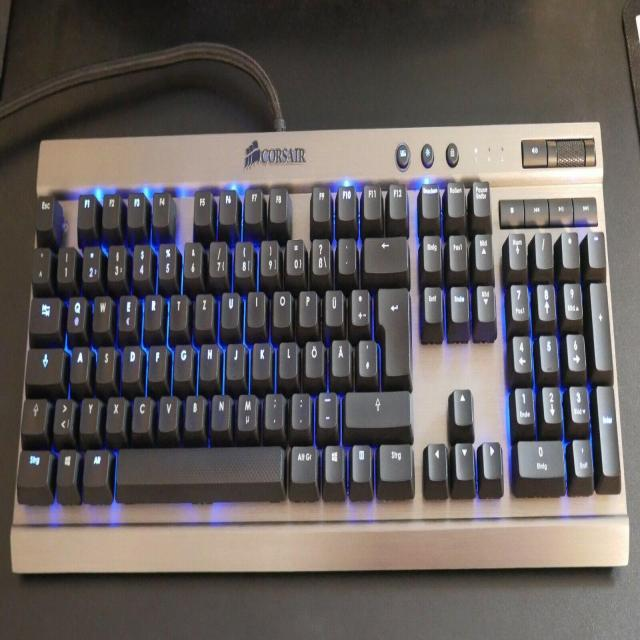0: (284, 234, 304, 275)
1: (55, 243, 74, 282)
2: (81, 243, 100, 282)
3: (106, 242, 125, 281)
4: (131, 242, 150, 280)
5: (157, 240, 176, 280)
6: (183, 238, 202, 277)
7: (208, 237, 227, 276)
8: (233, 237, 253, 278)
9: (260, 236, 279, 275)
a: (69, 342, 88, 381)
accent: (336, 235, 355, 272)
ae: (330, 335, 350, 374)
alt-left: (81, 445, 109, 486)
altgr-right: (289, 441, 317, 482)
b: (184, 391, 204, 429)
c: (130, 392, 151, 430)
caret: (30, 244, 49, 282)
comma: (264, 389, 283, 427)
d: (121, 341, 140, 381)
del: (362, 234, 407, 271)
e: (117, 291, 136, 329)
enter: (376, 284, 409, 374)
f: (147, 342, 166, 381)
g: (173, 341, 192, 380)
h: (198, 341, 218, 379)
hash: (357, 336, 376, 375)
i: (246, 287, 265, 325)
j: (225, 340, 244, 378)
k: (251, 339, 270, 377)
keyboard: (7, 116, 630, 581)
l: (278, 337, 296, 376)
less: (52, 394, 73, 434)
m: (236, 390, 256, 429)
minus: (316, 389, 336, 427)
n: (210, 390, 230, 429)
o: (271, 286, 291, 326)
oe: (304, 336, 323, 375)
p: (298, 286, 317, 324)
plus: (350, 284, 369, 323)
point: (290, 389, 309, 427)
q: (65, 292, 85, 332)
r: (143, 291, 162, 329)
s: (95, 342, 114, 381)
shift-left: (20, 395, 47, 433)
shift-lock: (24, 345, 63, 384)
shift-right: (343, 388, 410, 427)
space: (114, 443, 285, 488)
ss: (310, 234, 330, 273)
strg-left: (15, 446, 50, 487)
strg-right: (378, 439, 413, 480)
t: (168, 291, 187, 328)
tab: (28, 293, 60, 333)
u: (220, 289, 239, 327)
ue: (324, 286, 342, 324)
v: (157, 392, 178, 429)
w: (92, 291, 111, 329)
x: (105, 393, 125, 431)
y: (79, 395, 98, 432)
z: (194, 289, 213, 328)
